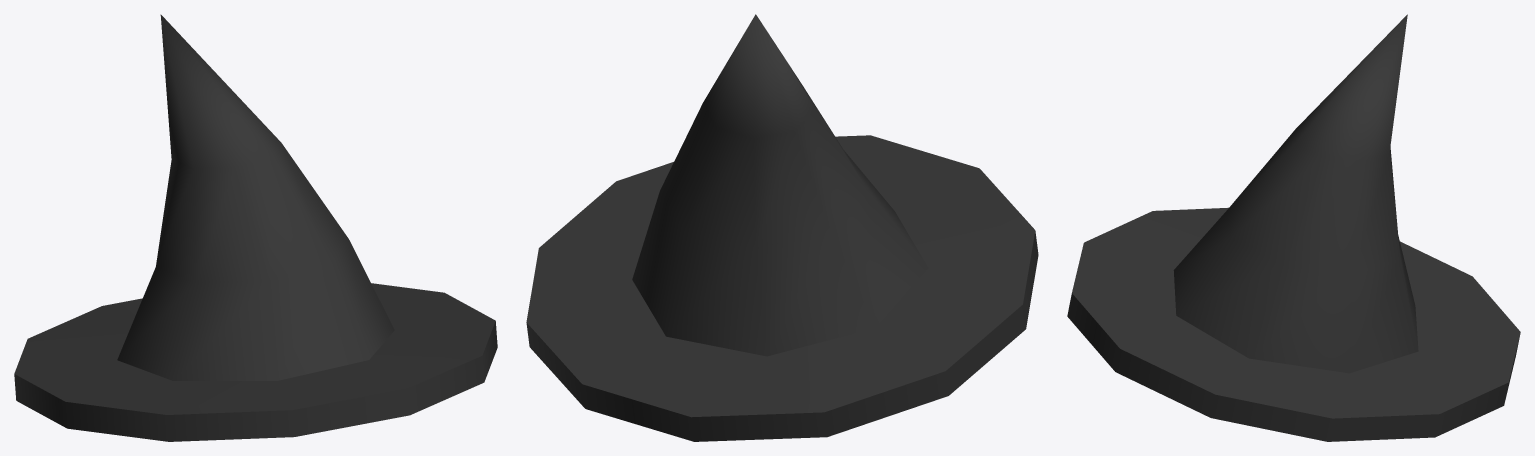
The model's file is Hat_Witch.fbx.
3 views of the same model, side by side, from view 1: azimuth 30°, elevation 25°; view 2: azimuth 150°, elevation 25°; view 3: azimuth 270°, elevation 25° (orthographic). The views are drawn at different scales.
Parts seen in each view (by area): view 1: Hat_Witch; view 2: Hat_Witch; view 3: Hat_Witch.
Part boxes in pixels (<box>): Hat_Witch: <box>14,14,497,441</box>; Hat_Witch: <box>526,14,1038,441</box>; Hat_Witch: <box>1067,14,1520,441</box>.
Bounding box in the file's own units: 103 × 85.31 × 103.
